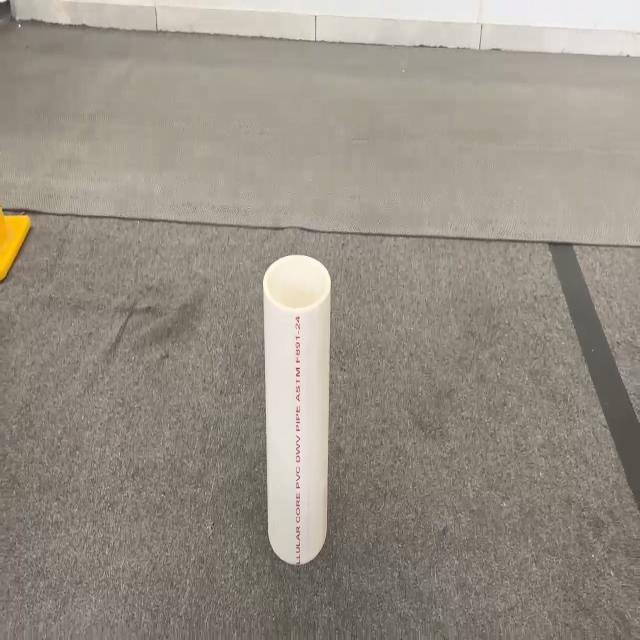coral: (262, 252, 332, 566)
